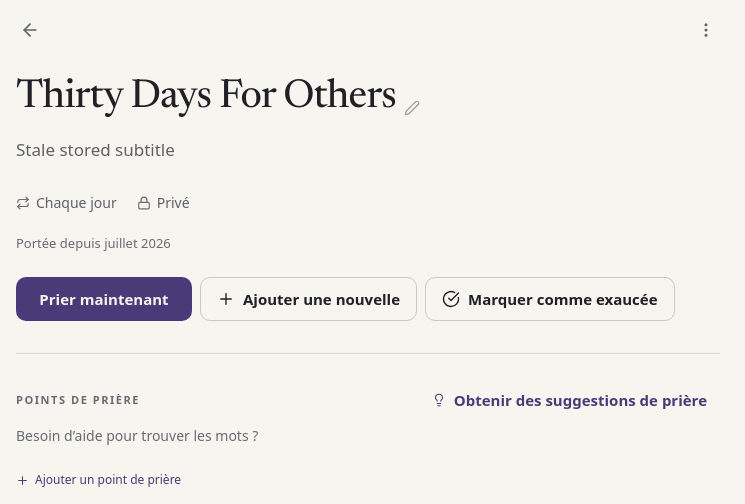
Test: the overflow menu on a plan run › keeps all of them on an ordinary prayer
Click the button named "Options".
click(706, 30)  # box [684, 8, 728, 52]
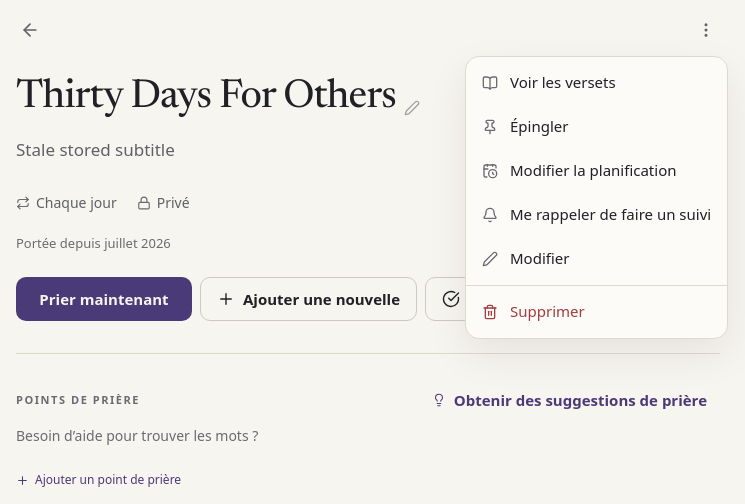
Expected: the menu item "Voir les versets" is shown, [466, 61, 727, 105]
Expected: the menu item "Me rappeler de faire un suivi" is shown, [466, 193, 727, 237]
Expected: the menu item "Modifier" is shown, [466, 237, 727, 281]
